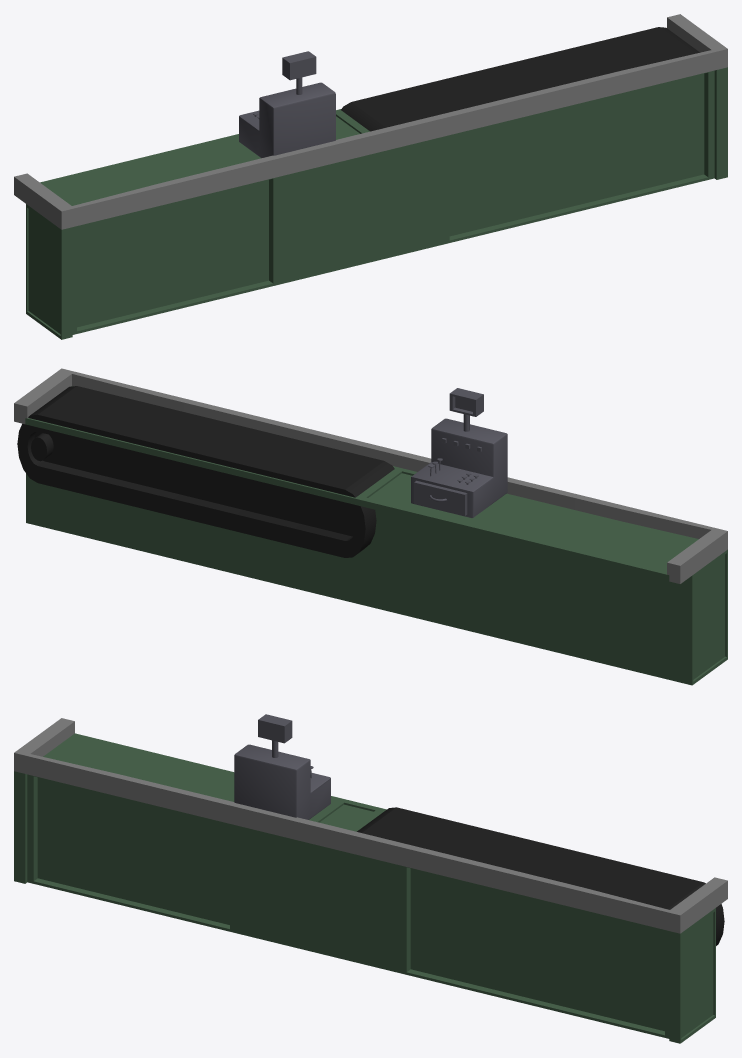
File: cashier.fbx
The picture shows the model from 3 angles, top to bottom: view 1: azimuth 30°, elevation 25°; view 2: azimuth 150°, elevation 25°; view 3: azimuth 330°, elevation 25°; orthographic projection.
Visible parts, largest first — view 1: Box001, Object002, Object001, Cylinder007; view 2: Box001, Object001, Object002, Cylinder007; view 3: Box001, Object002, Object001, Cylinder007.
Part boxes in pixels (bbox=[...]): Box001: bbox=[26, 67, 727, 339]; Object002: bbox=[14, 14, 727, 229]; Object001: bbox=[341, 27, 699, 131]; Cylinder007: bbox=[239, 51, 335, 158]; Box001: bbox=[25, 386, 727, 685]; Object001: bbox=[17, 386, 394, 557]; Object002: bbox=[14, 368, 727, 583]; Cylinder007: bbox=[411, 388, 507, 517]; Box001: bbox=[14, 733, 715, 1043]; Object002: bbox=[14, 718, 727, 933]; Object001: bbox=[357, 807, 724, 945]; Cylinder007: bbox=[234, 714, 330, 819].
Bounding box in the file's own units: 20.4 × 6.24 × 2.52.
